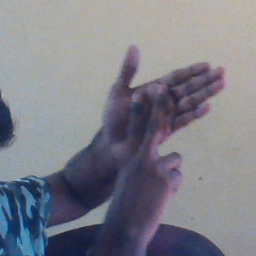N: (95, 40, 231, 196)
